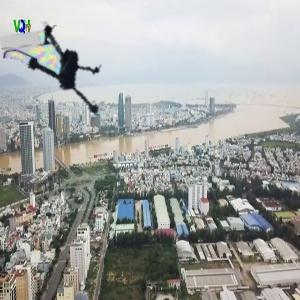drone: (8, 18, 127, 137)
